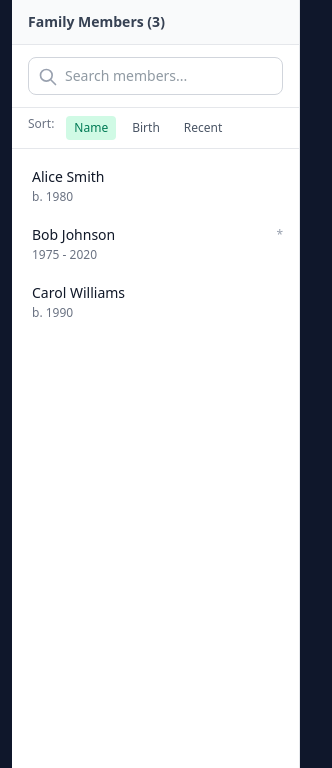
Scenario: MemberListSidebar › Search › should filter members by name
This screenshot has width=332, height=768.
In the field with placeholder "Search members...": (156, 76) [28,57,283,95], type "Alice"
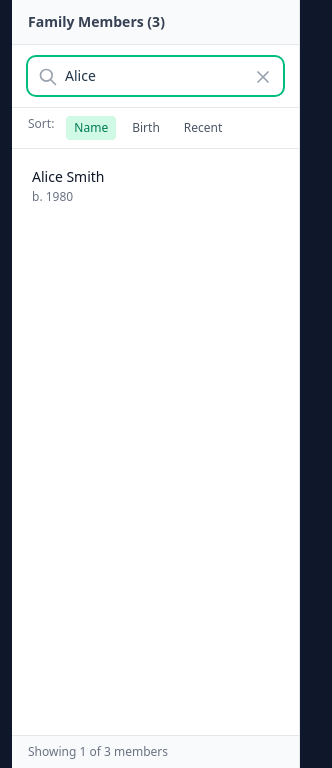
Check: the text "Alice Smith" is shown, box [32,167,104,187]
Check: the button "Bob Johnson" is gone
Check: the button "Carol Williams" is gone
